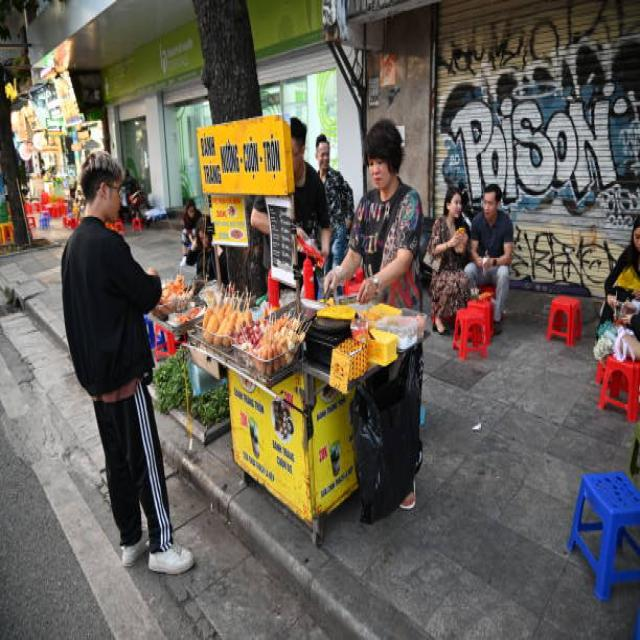Emperan: (118, 99, 431, 576)
